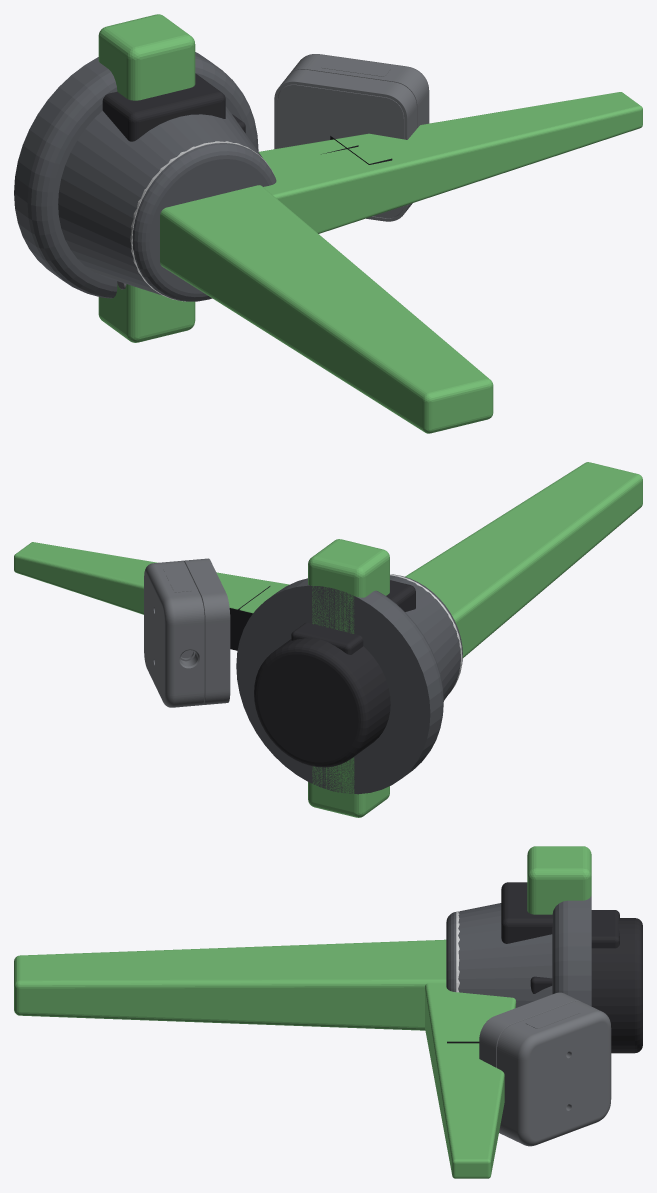
File: arm.glb
The picture shows the model from 3 angles, top to bottom: view 1: azimuth 30°, elevation 25°; view 2: azimuth 150°, elevation 25°; view 3: azimuth 270°, elevation 25°; orthographic projection. The views are drawn at different scales.
Visible parts, largest first — view 1: b3, b1, b4, b9, b2; view 2: b3, b1, b9, b4, b5, b2, b7; view 3: b3, b9, b1, b4, b2, b5.
Part boxes in pixels (<box>): b3: <box>160,185,493,433</box>; b1: <box>14,52,276,301</box>; b4: <box>259,92,642,233</box>; b9: <box>98,14,429,342</box>; b2: <box>102,73,225,141</box>; b3: <box>254,462,642,767</box>; b1: <box>236,574,462,794</box>; b9: <box>144,539,389,817</box>; b4: <box>14,542,289,614</box>; b5: <box>291,622,363,654</box>; b2: <box>386,580,415,611</box>; b7: <box>229,586,270,650</box>; b3: <box>14,918,642,1053</box>; b9: <box>479,846,611,1146</box>; b1: <box>446,895,591,1007</box>; b4: <box>425,983,516,1178</box>; b2: <box>501,882,552,943</box>; b5: <box>591,910,619,948</box>.
Size of the model in its own units: 0.1898 by 0.0973 by 0.2164.
